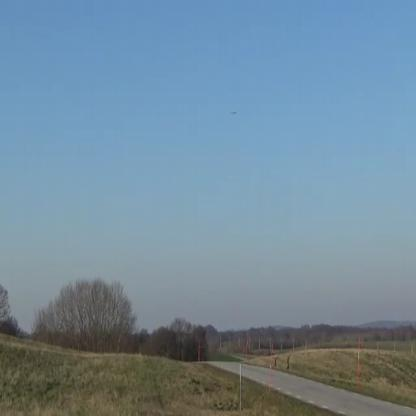CIV_Plane: (229, 106, 240, 116)
